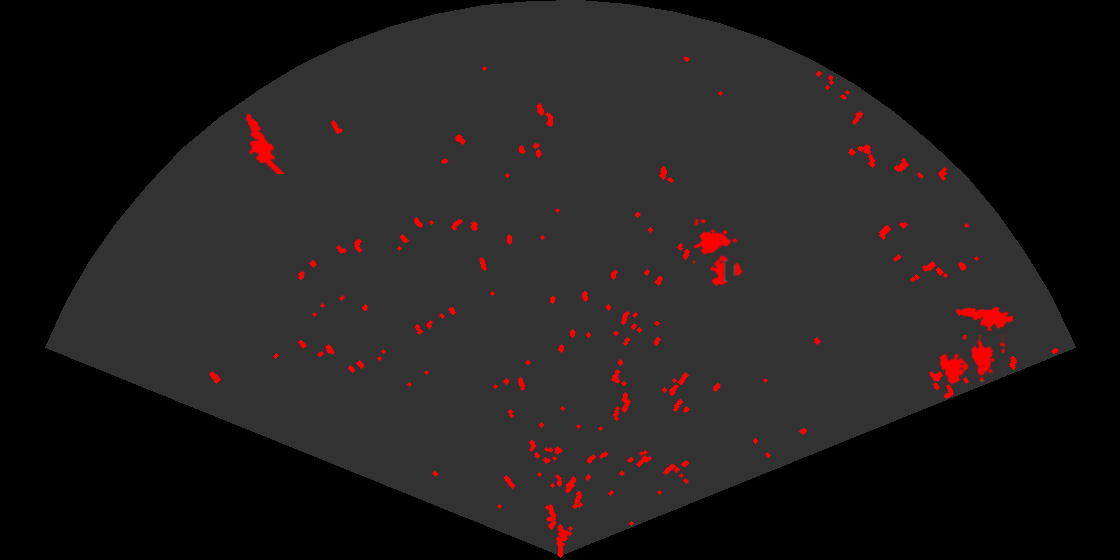cage: (693, 219, 744, 288), (937, 335, 1005, 386)
frogman: (244, 112, 286, 174), (953, 305, 1013, 333)
